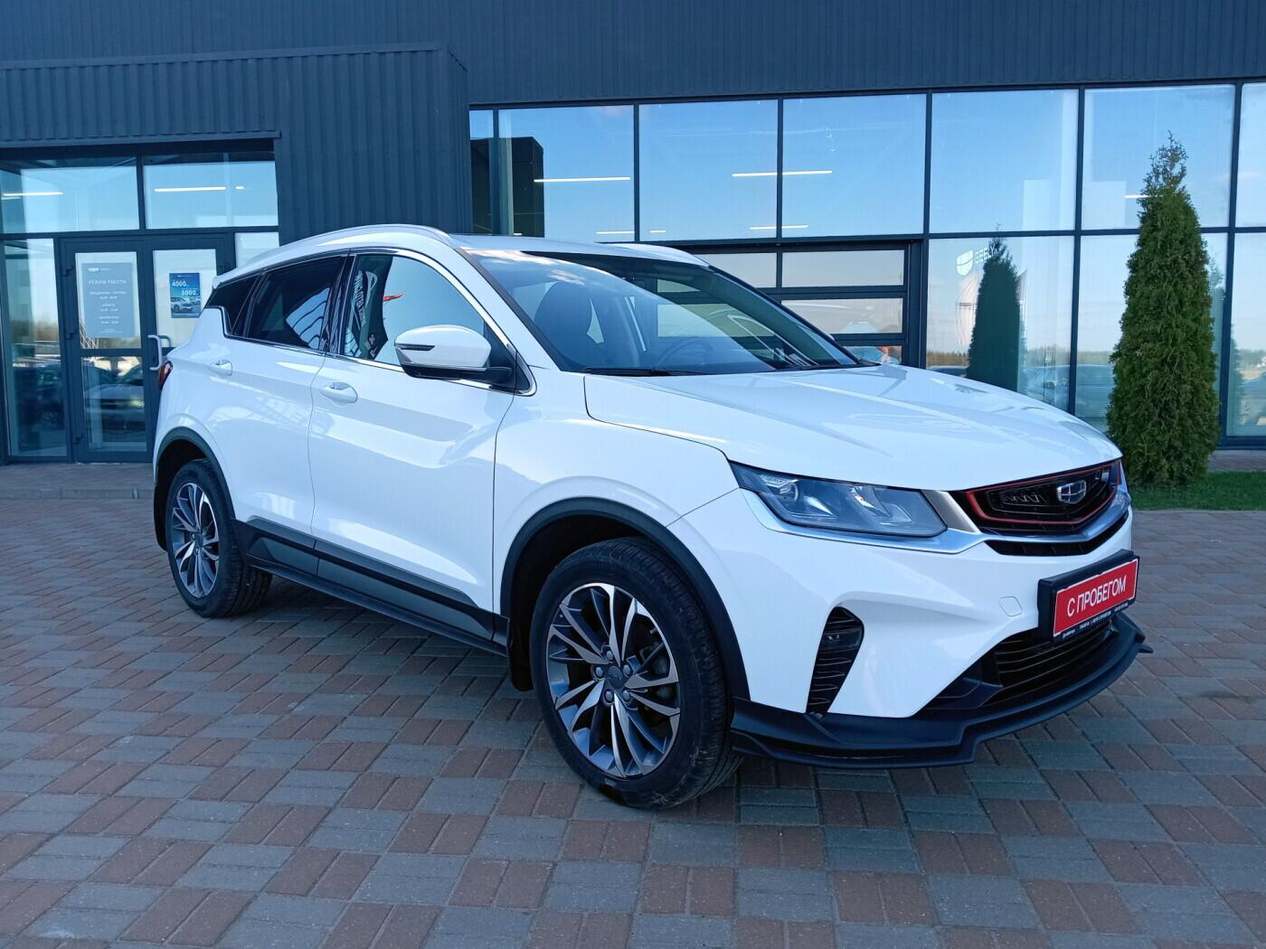Coolray_2019-2023: (156, 226, 1142, 805)
